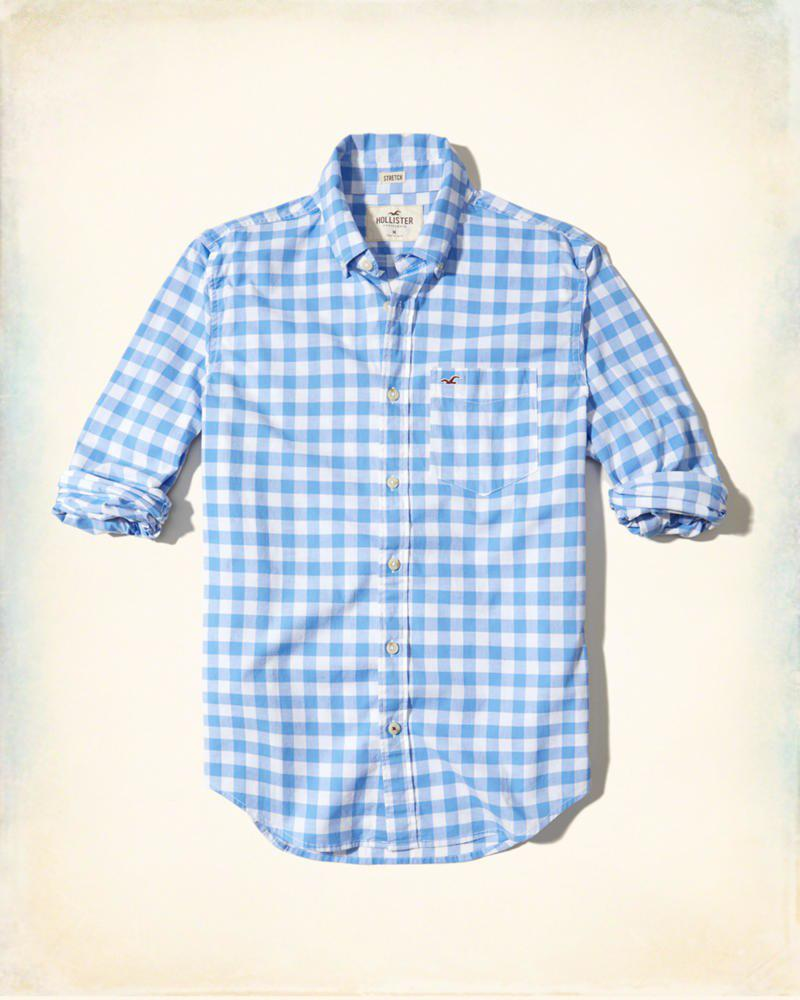teeshirt: (47, 122, 732, 860)
